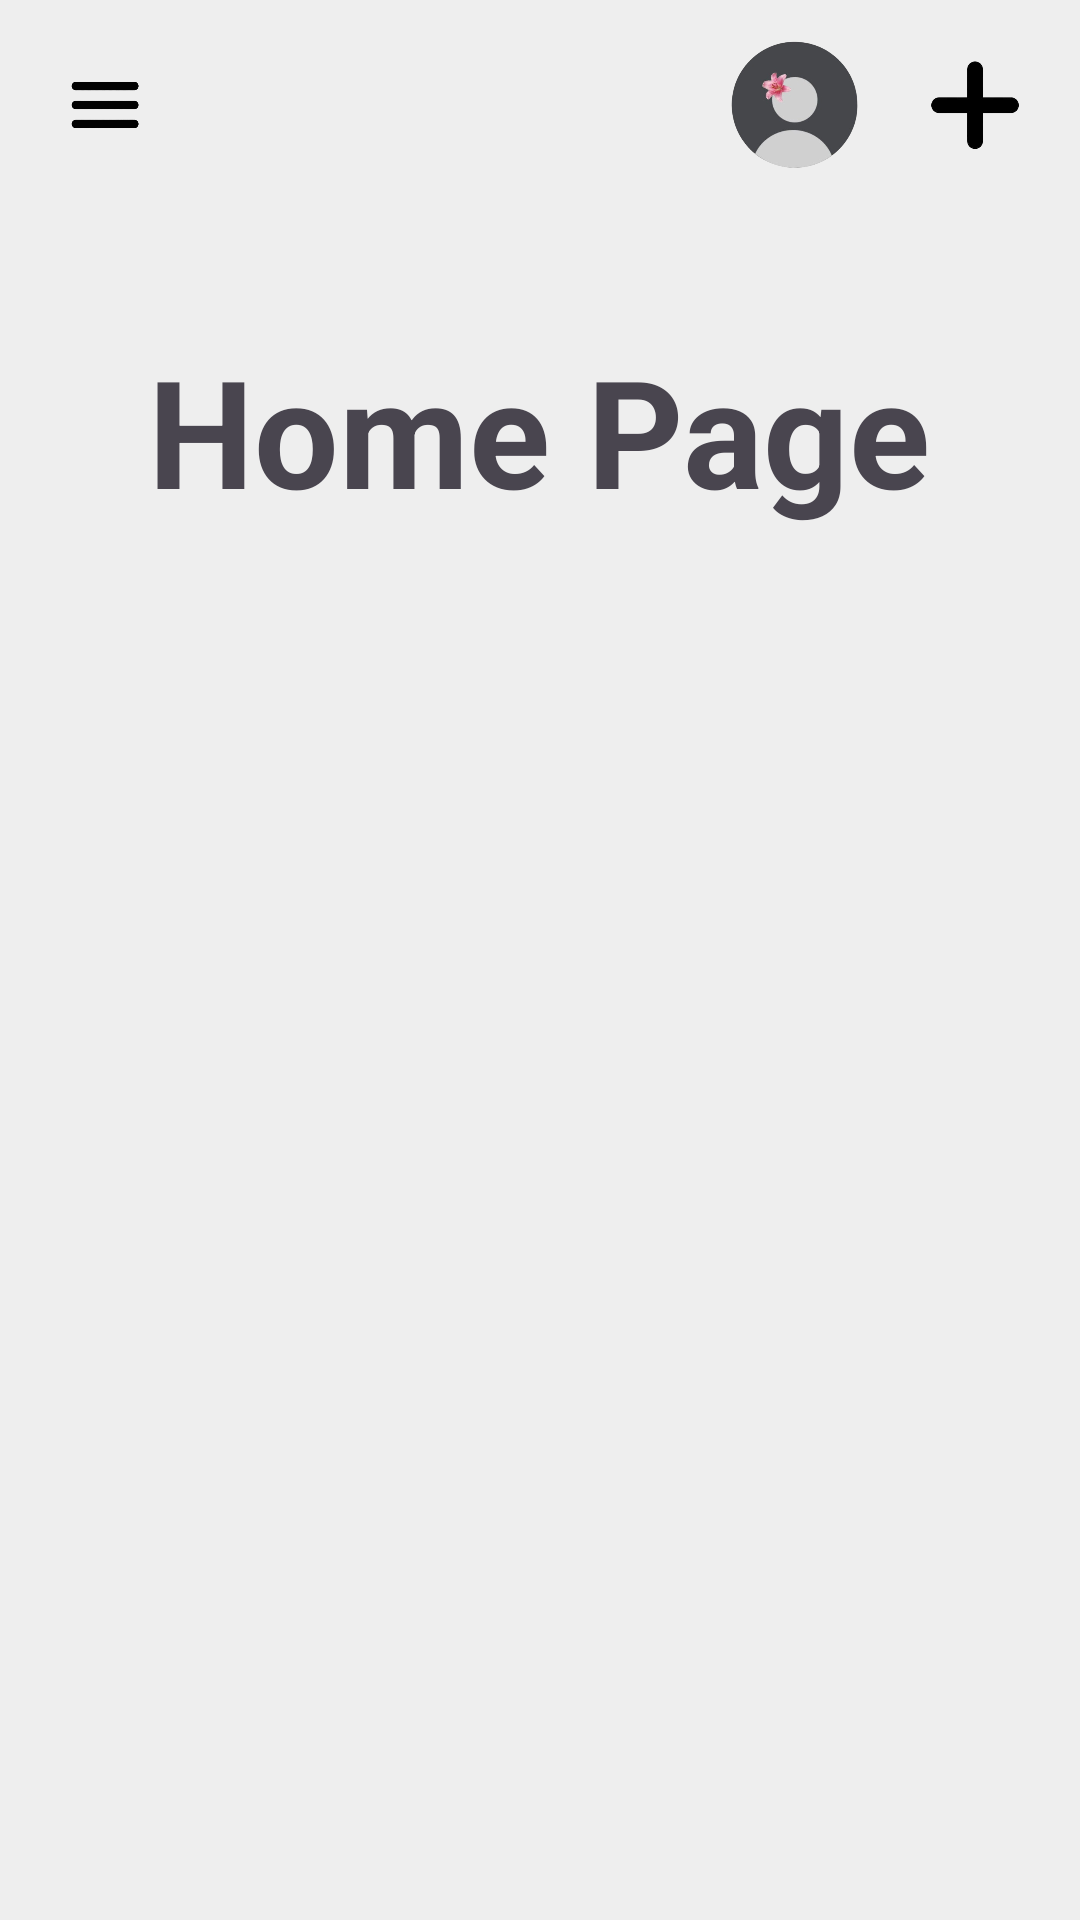

Icon click points for this 1080px x 1920px phone screenshot, format (x,y):
Add Event: (975,105)
Menu: (105,105)
My Profile: (794,105)
